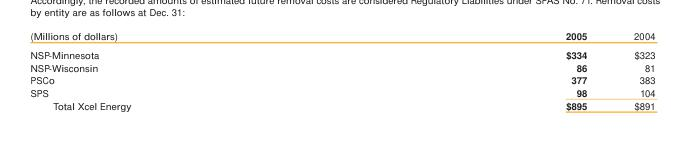table: (29, 29, 654, 111)
table column: (29, 29, 347, 111), (347, 29, 609, 111), (609, 29, 654, 111)
table column header: (29, 29, 654, 45)
table row: (29, 29, 654, 45), (29, 45, 654, 60), (29, 60, 654, 73), (29, 73, 654, 86), (29, 98, 654, 111), (29, 86, 654, 98)
